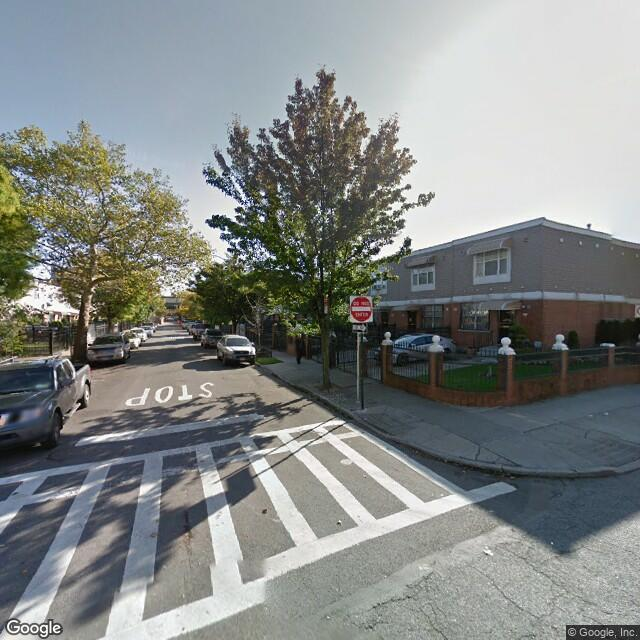litter: (484, 548, 496, 557)
